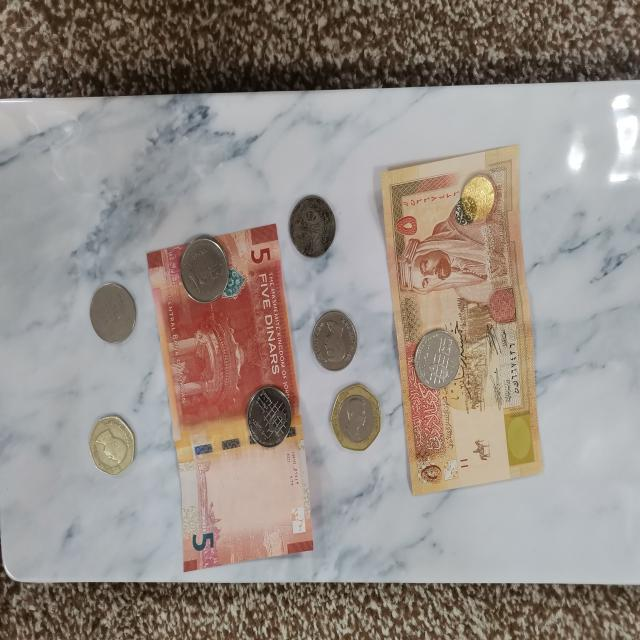10-coins: (179, 236, 230, 304)
5-coins: (328, 383, 382, 451), (285, 197, 342, 258), (89, 280, 138, 346), (310, 309, 358, 373), (88, 414, 136, 476), (247, 384, 293, 448), (414, 330, 462, 391)
5-dinar: (380, 140, 554, 499), (146, 222, 314, 569)
